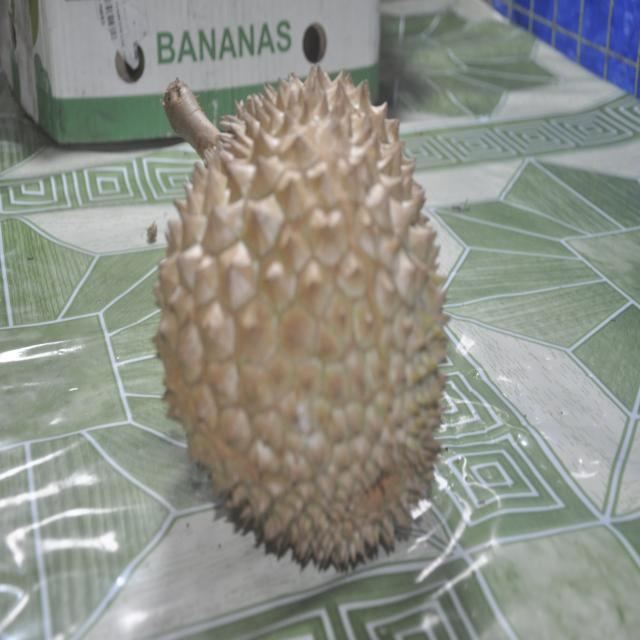mature: (155, 67, 447, 569)
